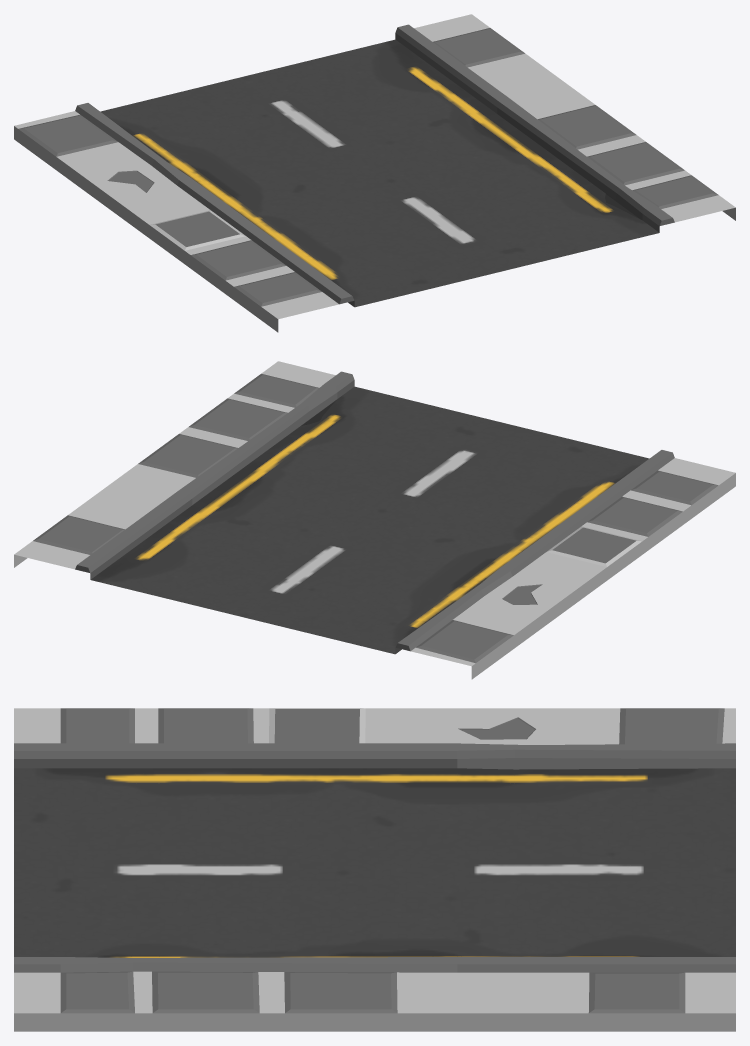
Rendered from Road_S_01.fbx.
The picture shows the model from 3 angles, top to bottom: view 1: azimuth 30°, elevation 25°; view 2: azimuth 150°, elevation 25°; view 3: azimuth 270°, elevation 25°; orthographic projection. The views are drawn at different scales.
Parts seen in each view (by area): view 1: Road_S_01; view 2: Road_S_01; view 3: Road_S_01.
Boxes of the visible parts, x1,y1,x2,y2 form: Road_S_01: [14, 14, 735, 332]; Road_S_01: [14, 361, 735, 679]; Road_S_01: [14, 708, 735, 1031].
Size of the model in its own units: 1200 by 46.45 by 1200.
